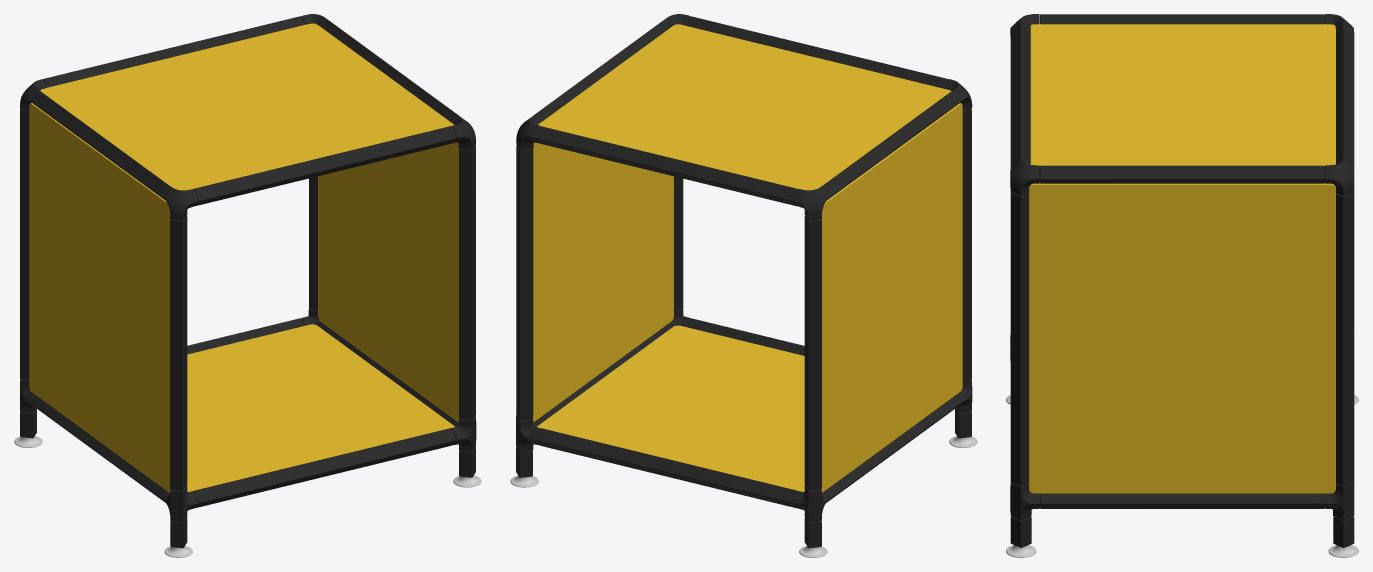
3 renders of one model, left to right at view 1: azimuth 30°, elevation 25°; view 2: azimuth 150°, elevation 25°; view 3: azimuth 270°, elevation 25°, orthographic. The views are drawn at different scales.
Visible parts, largest first — view 1: 420x374x420; view 2: 420x374x420; view 3: 420x374x420.
Part boxes in pixels (box(x1,y1,x2,y2)): 420x374x420: box(14, 14, 481, 557); 420x374x420: box(510, 14, 977, 557); 420x374x420: box(1006, 14, 1358, 557).
Size of the model in its own units: 0.5099 by 0.5593 by 0.4631.
